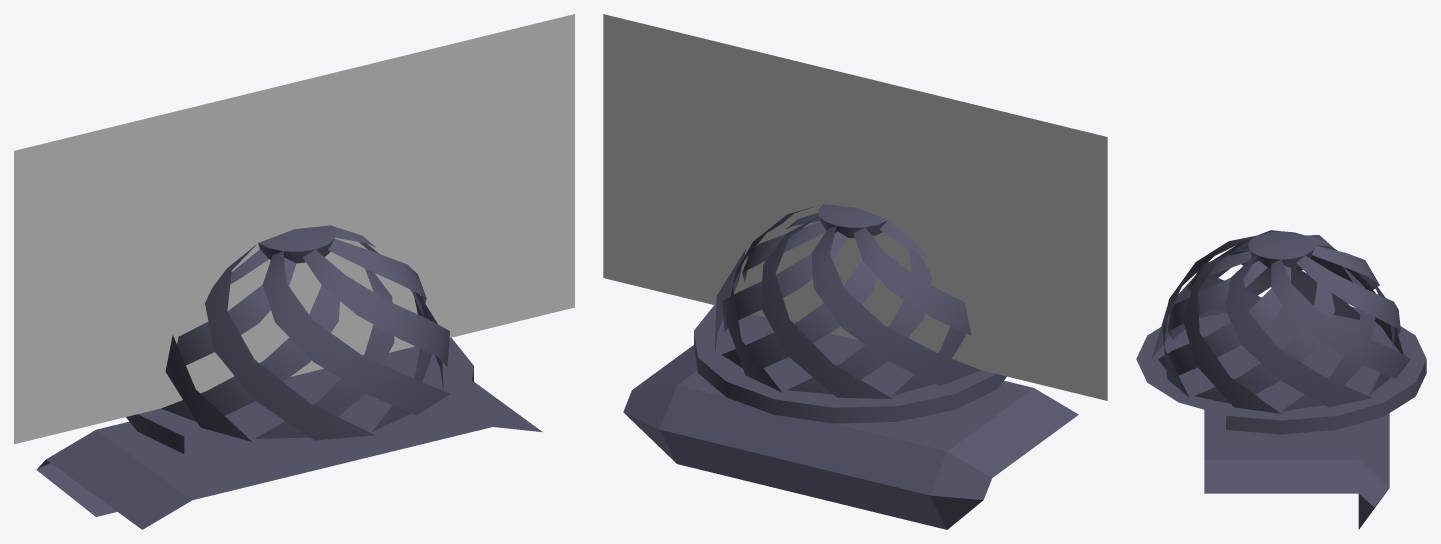
The model's file is tool_collector.fbx.
3 views of the same model, side by side, from view 1: azimuth 30°, elevation 25°; view 2: azimuth 150°, elevation 25°; view 3: azimuth 270°, elevation 25° (orthographic). The views are drawn at different scales.
Visible parts, largest first — view 1: tool_collector_glow, tool_collector; view 2: tool_collector_glow, tool_collector; view 3: tool_collector.
Part boxes in pixels (x1,y1,x2,y2): tool_collector_glow: [14, 14, 574, 444]; tool_collector: [36, 225, 542, 529]; tool_collector_glow: [603, 14, 1107, 400]; tool_collector: [623, 204, 1078, 529]; tool_collector: [1136, 230, 1426, 529].
Bounding box in the file's own units: 84 × 62 × 47.
